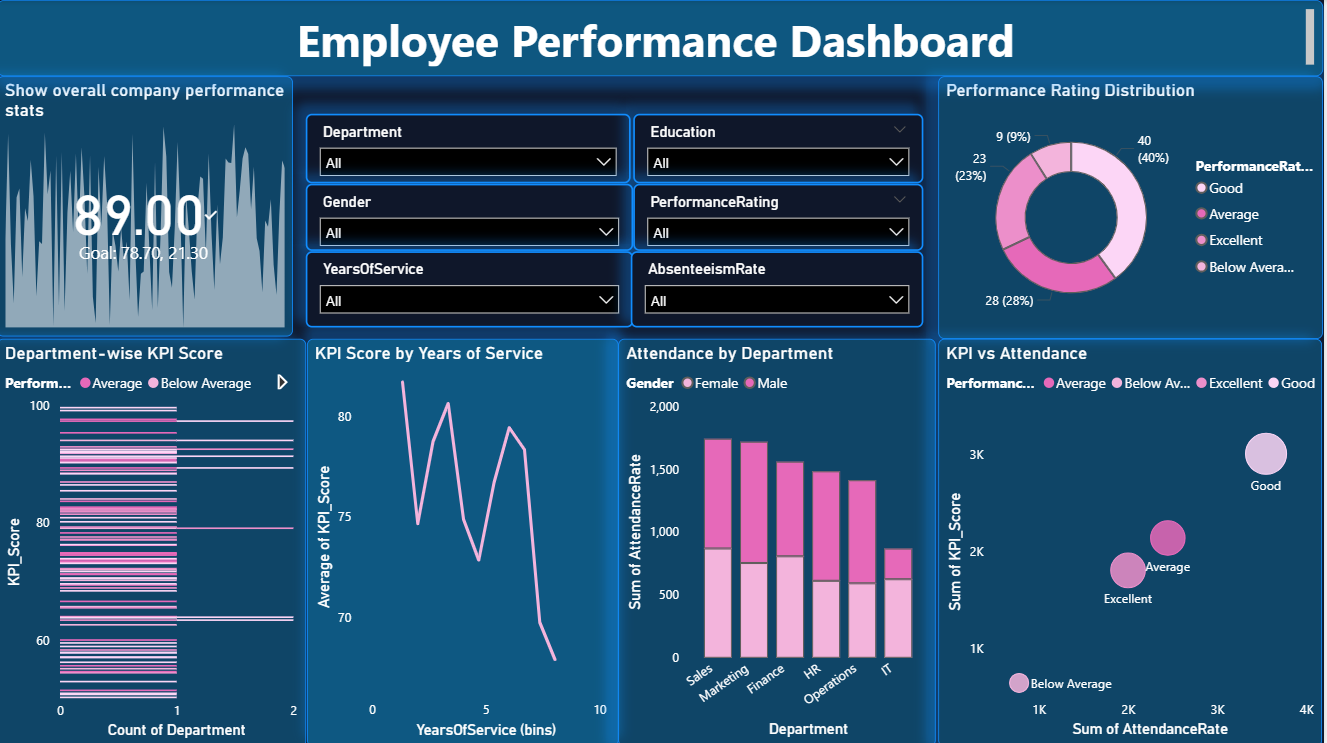

What the dashboard file says about the page in this screenshot:
{"tool":"powerbi","page":{"name":"Page 1","canvas":[1280,720],"ordinal":0},"visuals":[{"type":"kpi","title":"Show overall company performance stats","fields":{"Indicator":["Sum(3 employee_performance_dashboard.KPI_Score)"],"Goal":["Sum(3 employee_performance_dashboard.AttendanceRate)","Sum(3 employee_performance_dashboard.AbsenteeismRate)"],"TrendLine":["3 employee_performance_dashboard.EmployeeID"]},"box":[0,73.6,285.9,250.9],"z":0},{"type":"barChart","title":" Department-wise KPI Score","fields":{"Y":["CountNonNull(3 employee_performance_dashboard.Department)"],"Category":["3 employee_performance_dashboard.KPI_Score"],"Series":["3 employee_performance_dashboard.PerformanceRating"]},"box":[0,327.2,298,394.4],"z":1000},{"type":"lineChart","title":" KPI Score by Years of Service","fields":{"Y":["Avg(3 employee_performance_dashboard.KPI_Score)"],"Category":["3 employee_performance_dashboard.YearsOfService (bins)"]},"box":[299.2,326.9,300.4,393.3],"z":2000},{"type":"columnChart","title":"Attendance by Department","fields":{"Category":["3 employee_performance_dashboard.Department"],"Y":["Sum(3 employee_performance_dashboard.AttendanceRate)"],"Series":["3 employee_performance_dashboard.Gender"]},"box":[599.6,326.9,306.4,393.3],"z":3000},{"type":"scatterChart","title":"KPI vs Attendance","fields":{"X":["Sum(3 employee_performance_dashboard.AttendanceRate)"],"Y":["Sum(3 employee_performance_dashboard.KPI_Score)"],"Size":["Sum(3 employee_performance_dashboard.ProjectsHandled)"],"Series":["3 employee_performance_dashboard.PerformanceRating"]},"box":[908.4,326.9,370.4,393.3],"z":4000},{"type":"donutChart","title":"Performance Rating Distribution","fields":{"Category":["3 employee_performance_dashboard.PerformanceRating"],"Y":["CountNonNull(3 employee_performance_dashboard.EmployeeID)"]},"box":[908.4,73.6,371.6,253.4],"z":5000},{"type":"slicer","fields":{"Values":["3 employee_performance_dashboard.Department"]},"box":[298,109.8,313.7,67.6],"z":6000},{"type":"slicer","fields":{"Values":["3 employee_performance_dashboard.Gender"]},"box":[298,177,316,65],"z":7000},{"type":"slicer","fields":{"Values":["3 employee_performance_dashboard.Education"]},"box":[614,109.8,280.1,67.2],"z":8000},{"type":"slicer","fields":{"Values":["3 employee_performance_dashboard.PerformanceRating"]},"box":[614,177,280.1,65],"z":9000},{"type":"slicer","fields":{"Values":["3 employee_performance_dashboard.YearsOfService"]},"box":[298,242,316,74],"z":10000},{"type":"textbox","box":[0,0,1280,73.6],"z":11000},{"type":"slicer","fields":{"Values":["3 employee_performance_dashboard.AbsenteeismRate"]},"box":[611.8,242,282.4,74],"z":12000}]}

Visuals, with their boxes in screenshot pixels (x1, y1, x2, y2), scaled from the page's 1280x720 canvas onto the 1327x743 screenshot:
"Show overall company performance stats" kpi: 0 76 296 335
" Department-wise KPI Score" barChart: 0 338 309 742
" KPI Score by Years of Service" lineChart: 310 337 622 742
"Attendance by Department" columnChart: 622 337 939 742
"KPI vs Attendance" scatterChart: 942 337 1326 742
"Performance Rating Distribution" donutChart: 942 76 1326 337
slicer - 3 employee_performance_dashboard.Department: 309 113 634 183
slicer - 3 employee_performance_dashboard.Gender: 309 183 637 250
slicer - 3 employee_performance_dashboard.Education: 637 113 927 183
slicer - 3 employee_performance_dashboard.PerformanceRating: 637 183 927 250
slicer - 3 employee_performance_dashboard.YearsOfService: 309 250 637 326
textbox: 0 0 1326 76
slicer - 3 employee_performance_dashboard.AbsenteeismRate: 634 250 927 326
